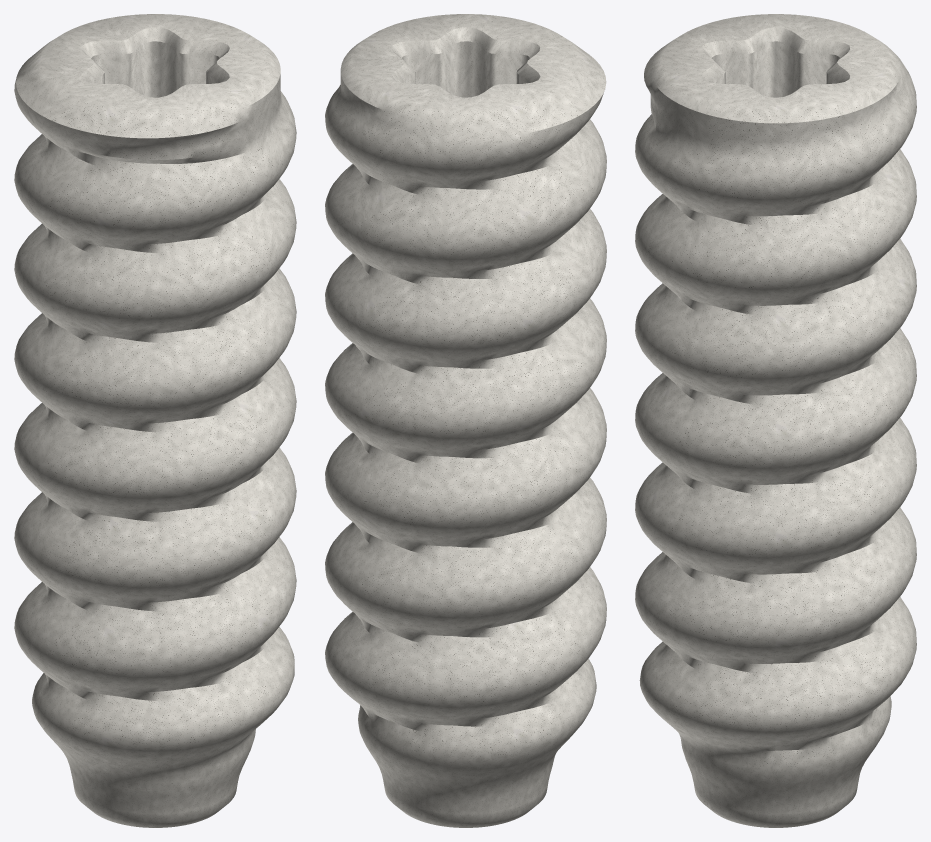
File: graftfix.glb
3 views of the same model, side by side, from view 1: azimuth 30°, elevation 25°; view 2: azimuth 150°, elevation 25°; view 3: azimuth 270°, elevation 25° (orthographic).
Parts seen in each view (by area): view 1: graftfix; view 2: graftfix; view 3: graftfix.
Boxes of the visible parts, left/top/right/bottom form: graftfix: left=14, top=14, right=296, bottom=827; graftfix: left=325, top=14, right=606, bottom=827; graftfix: left=635, top=14, right=916, bottom=827.
Size of the model in its own units: 0.008 by 0.023 by 0.00799.
1 material, 1 textured.
